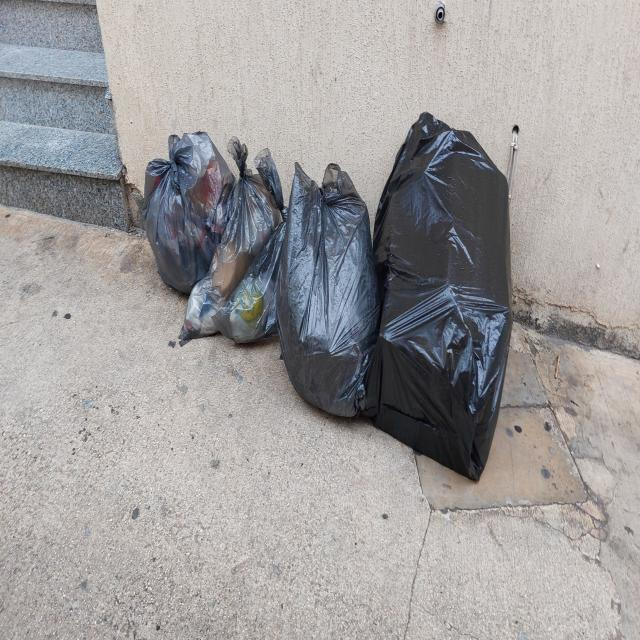Mixed Waste -Black Bag-: (362, 113, 514, 485), (277, 161, 379, 422), (179, 138, 282, 348), (212, 147, 290, 347), (146, 127, 236, 297)
